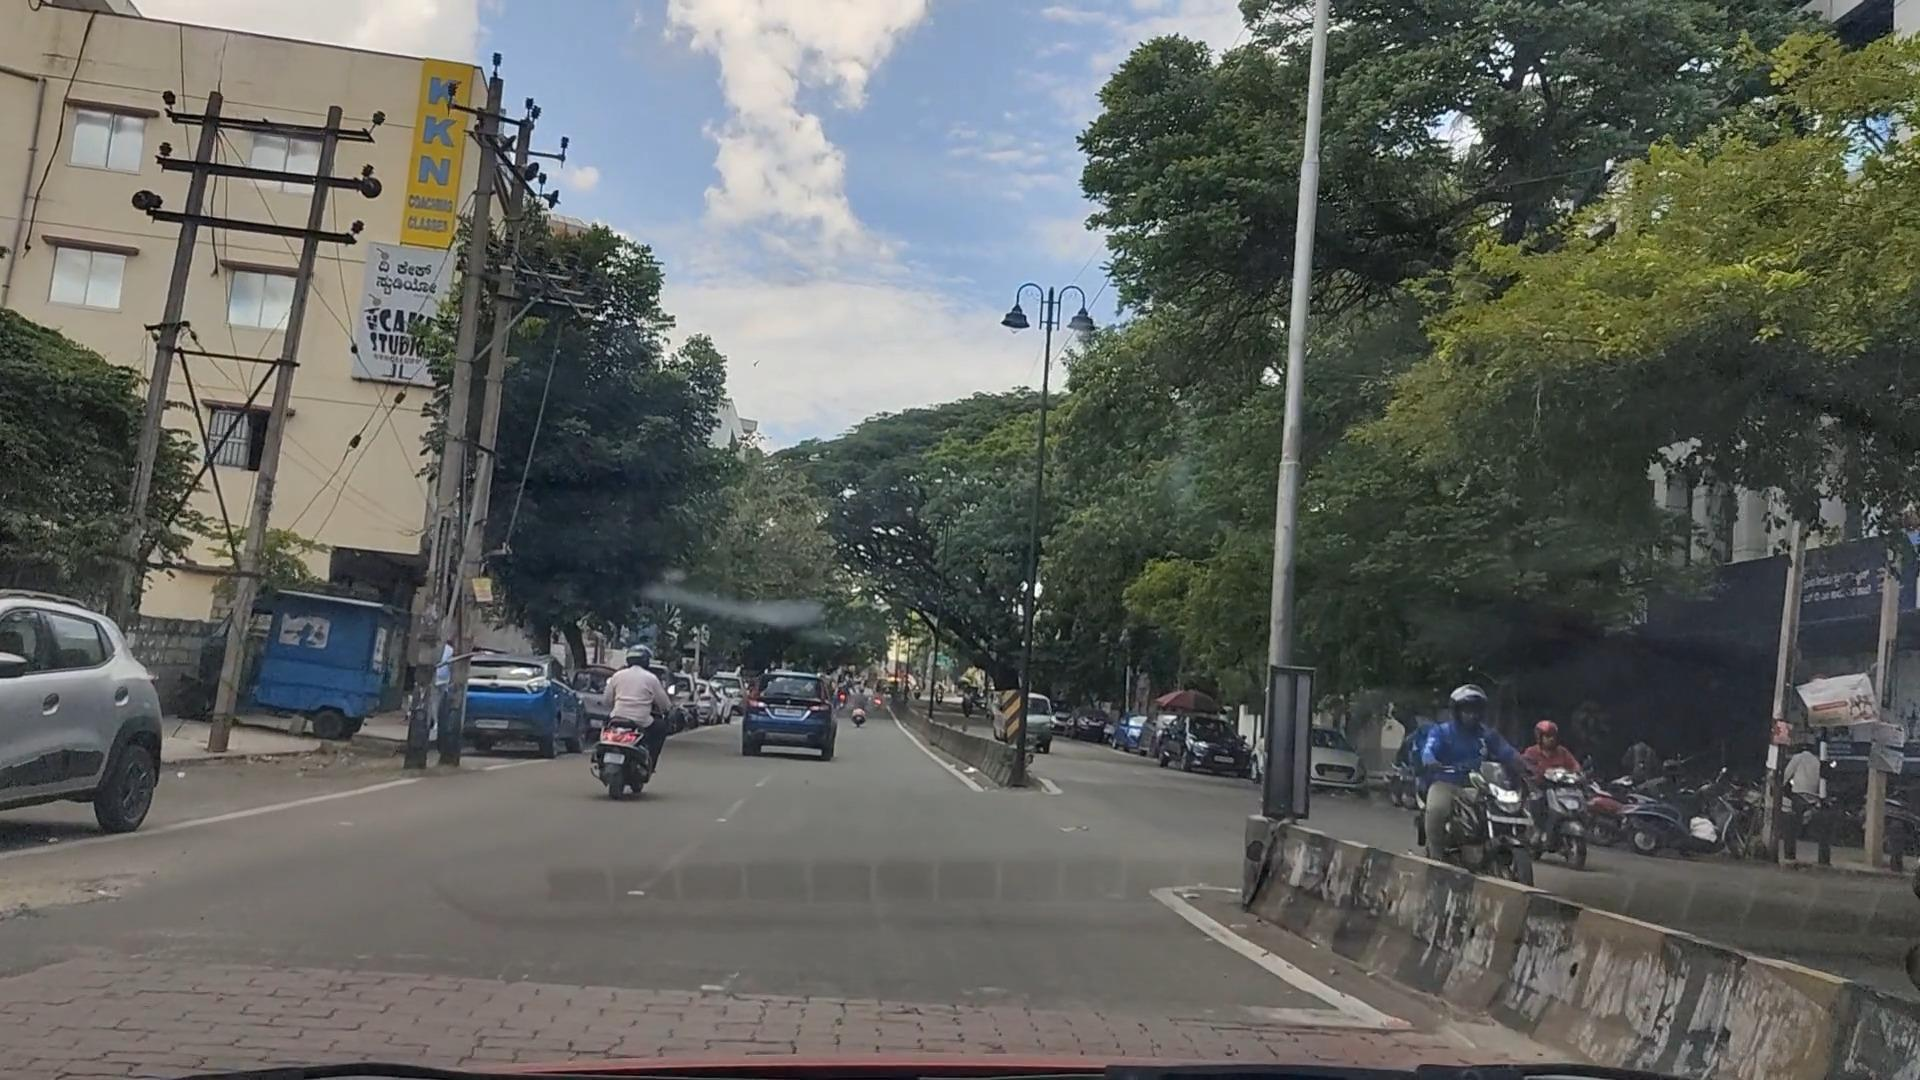LMV: (608, 653, 694, 815), (745, 666, 843, 762)
